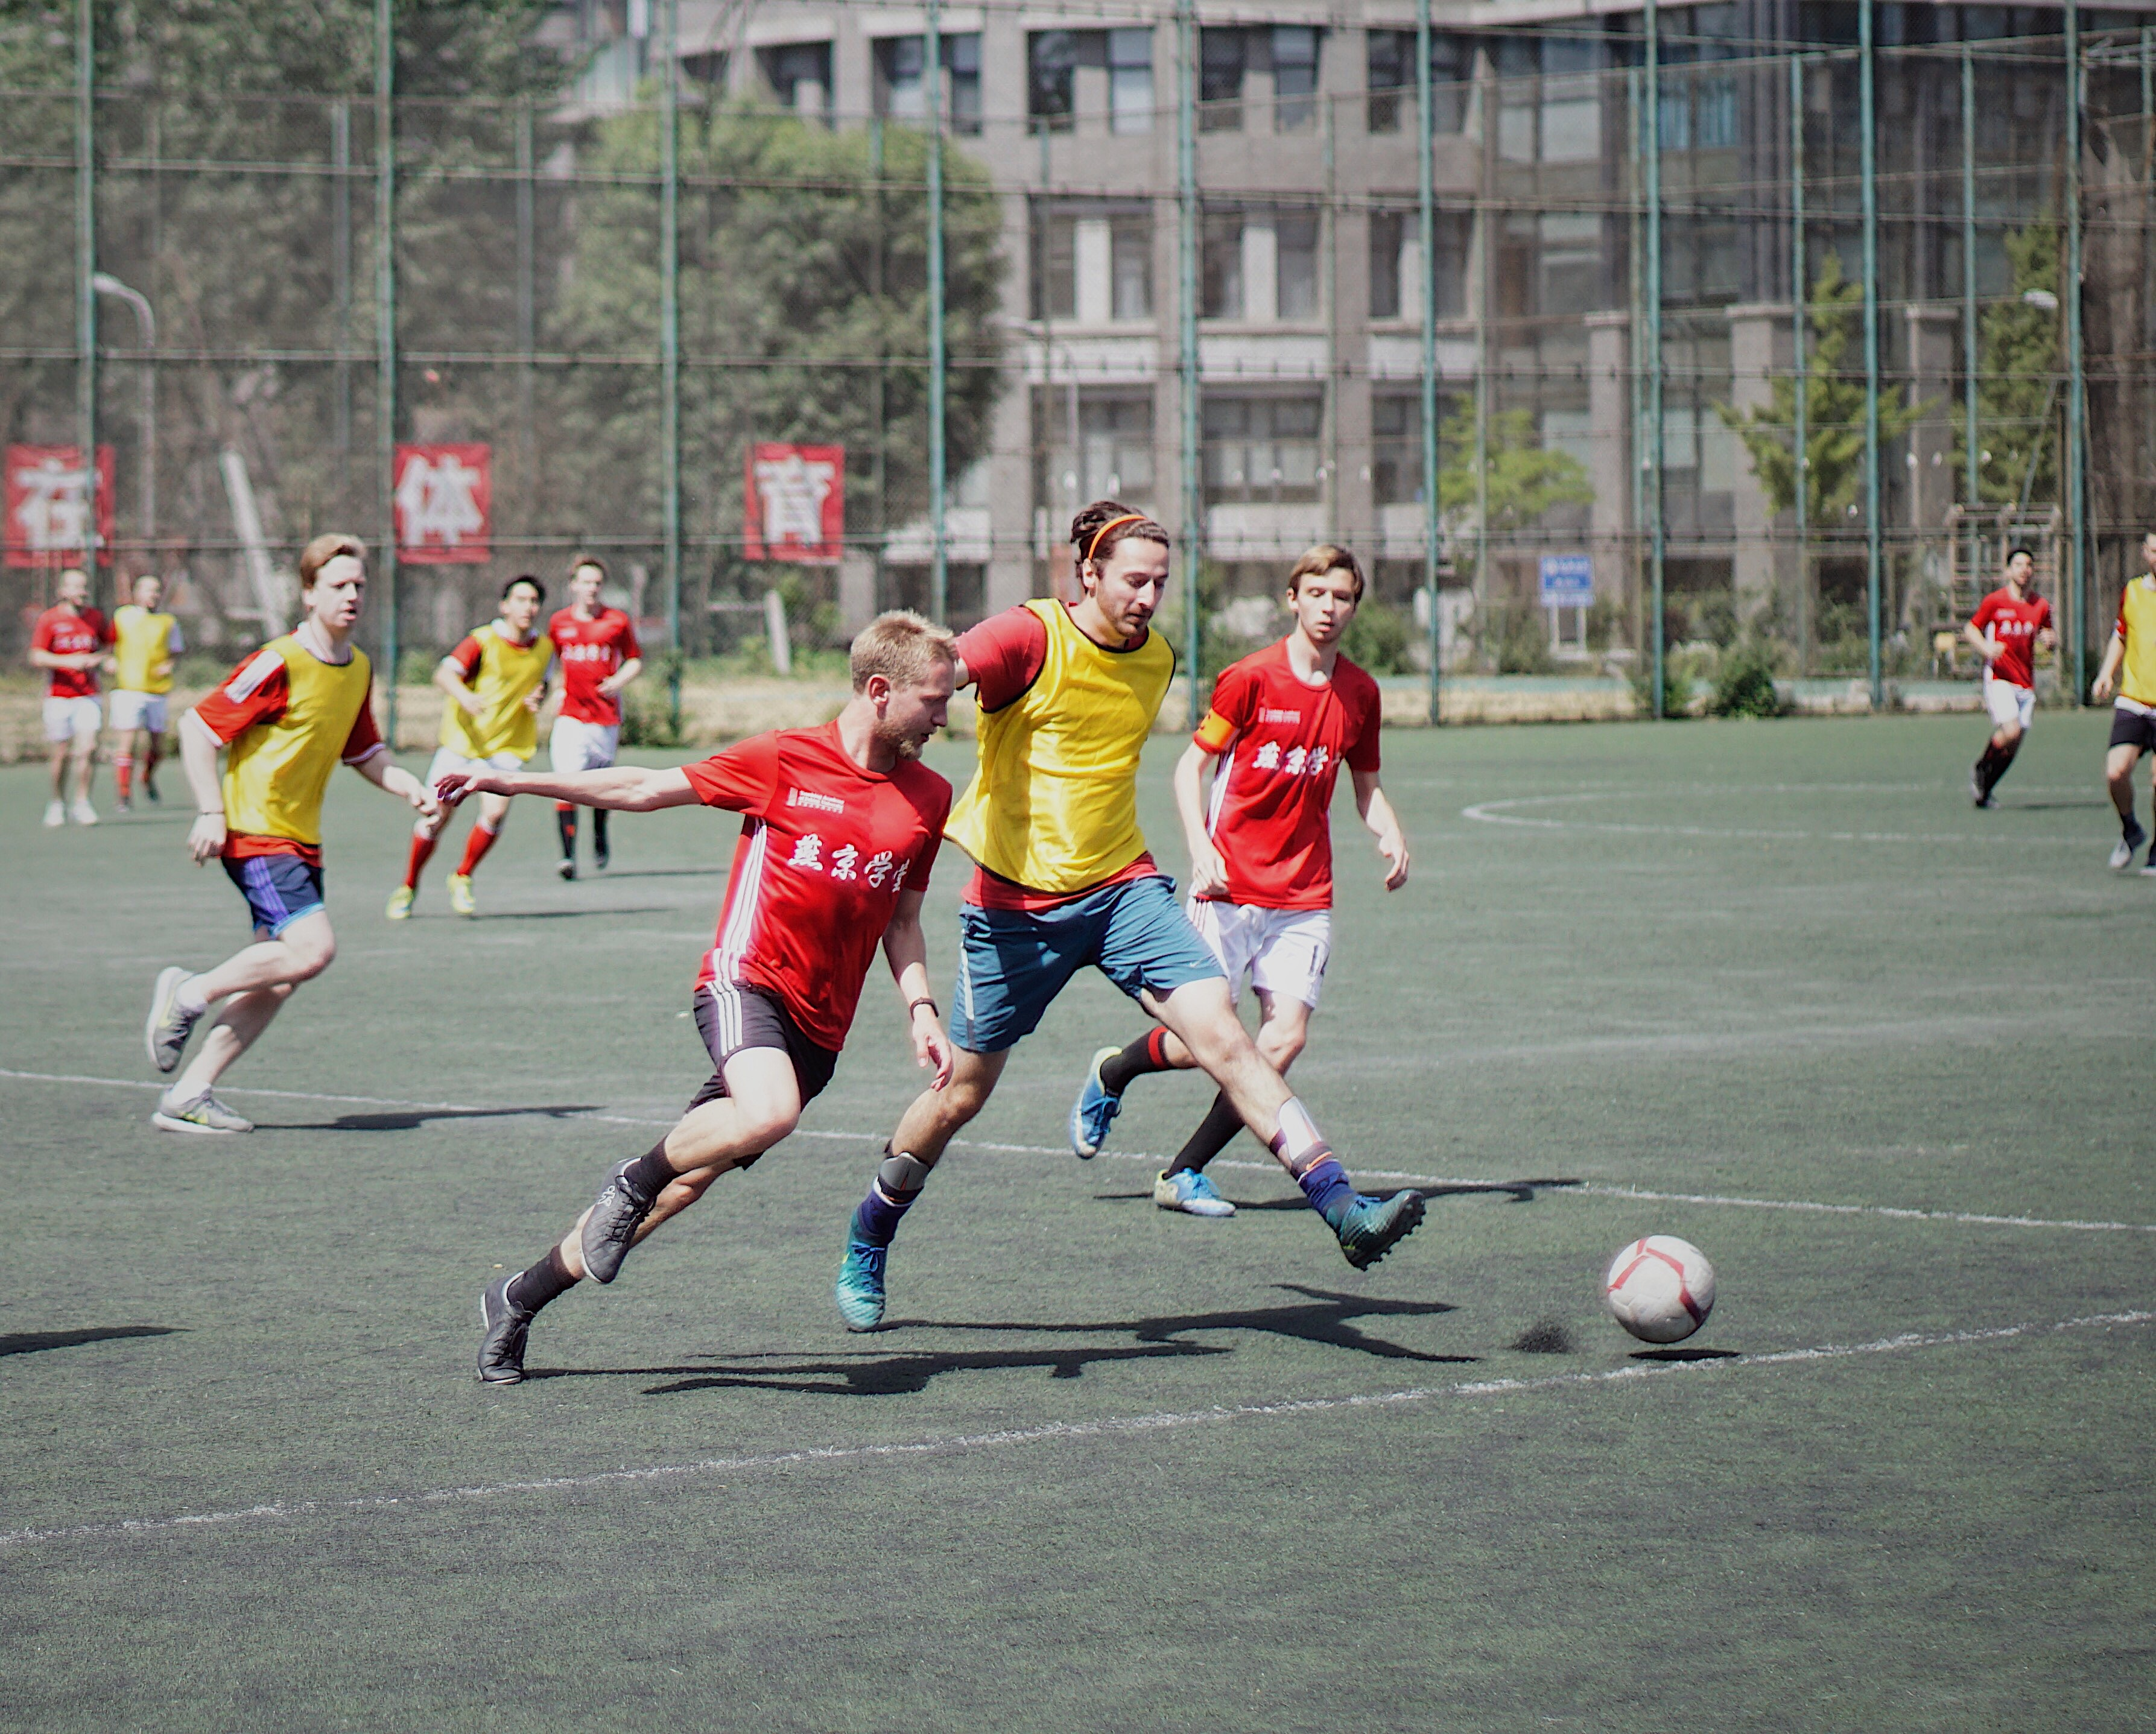player: (934, 476, 1257, 1381), (672, 604, 961, 1367), (1194, 534, 1444, 1184), (195, 526, 402, 1129), (449, 528, 570, 872), (1939, 518, 2059, 848), (549, 552, 652, 880), (2096, 510, 2156, 963), (30, 542, 124, 832), (124, 573, 185, 817)
soccer ball: (1567, 1213, 1758, 1365)
soccer cleats: (465, 1166, 675, 1407), (1296, 1153, 1448, 1270), (822, 1210, 905, 1355), (1058, 1027, 1137, 1174)
